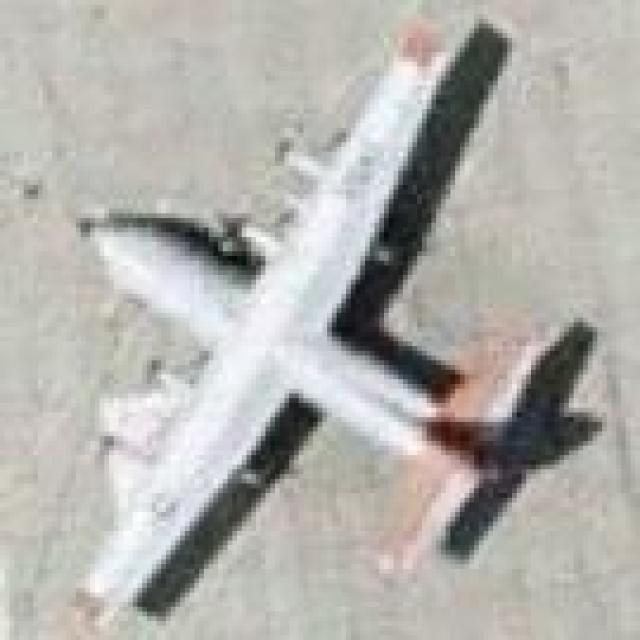C-130_TopDown: (67, 14, 604, 626)
